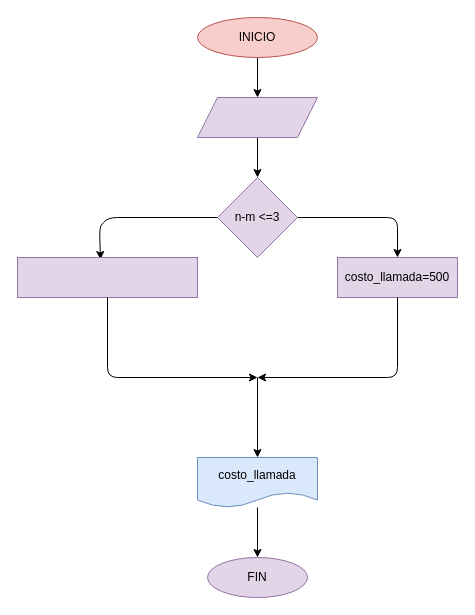
The diagram is 475 pixels wide and 615 high, and some of its shapes have lost their labels. Each missing label, with the centre of its shape:
min_ad=n-m-3 costo_llamada=100*min_ad+500: (x=107, y=277)
n-m: (x=257, y=117)
